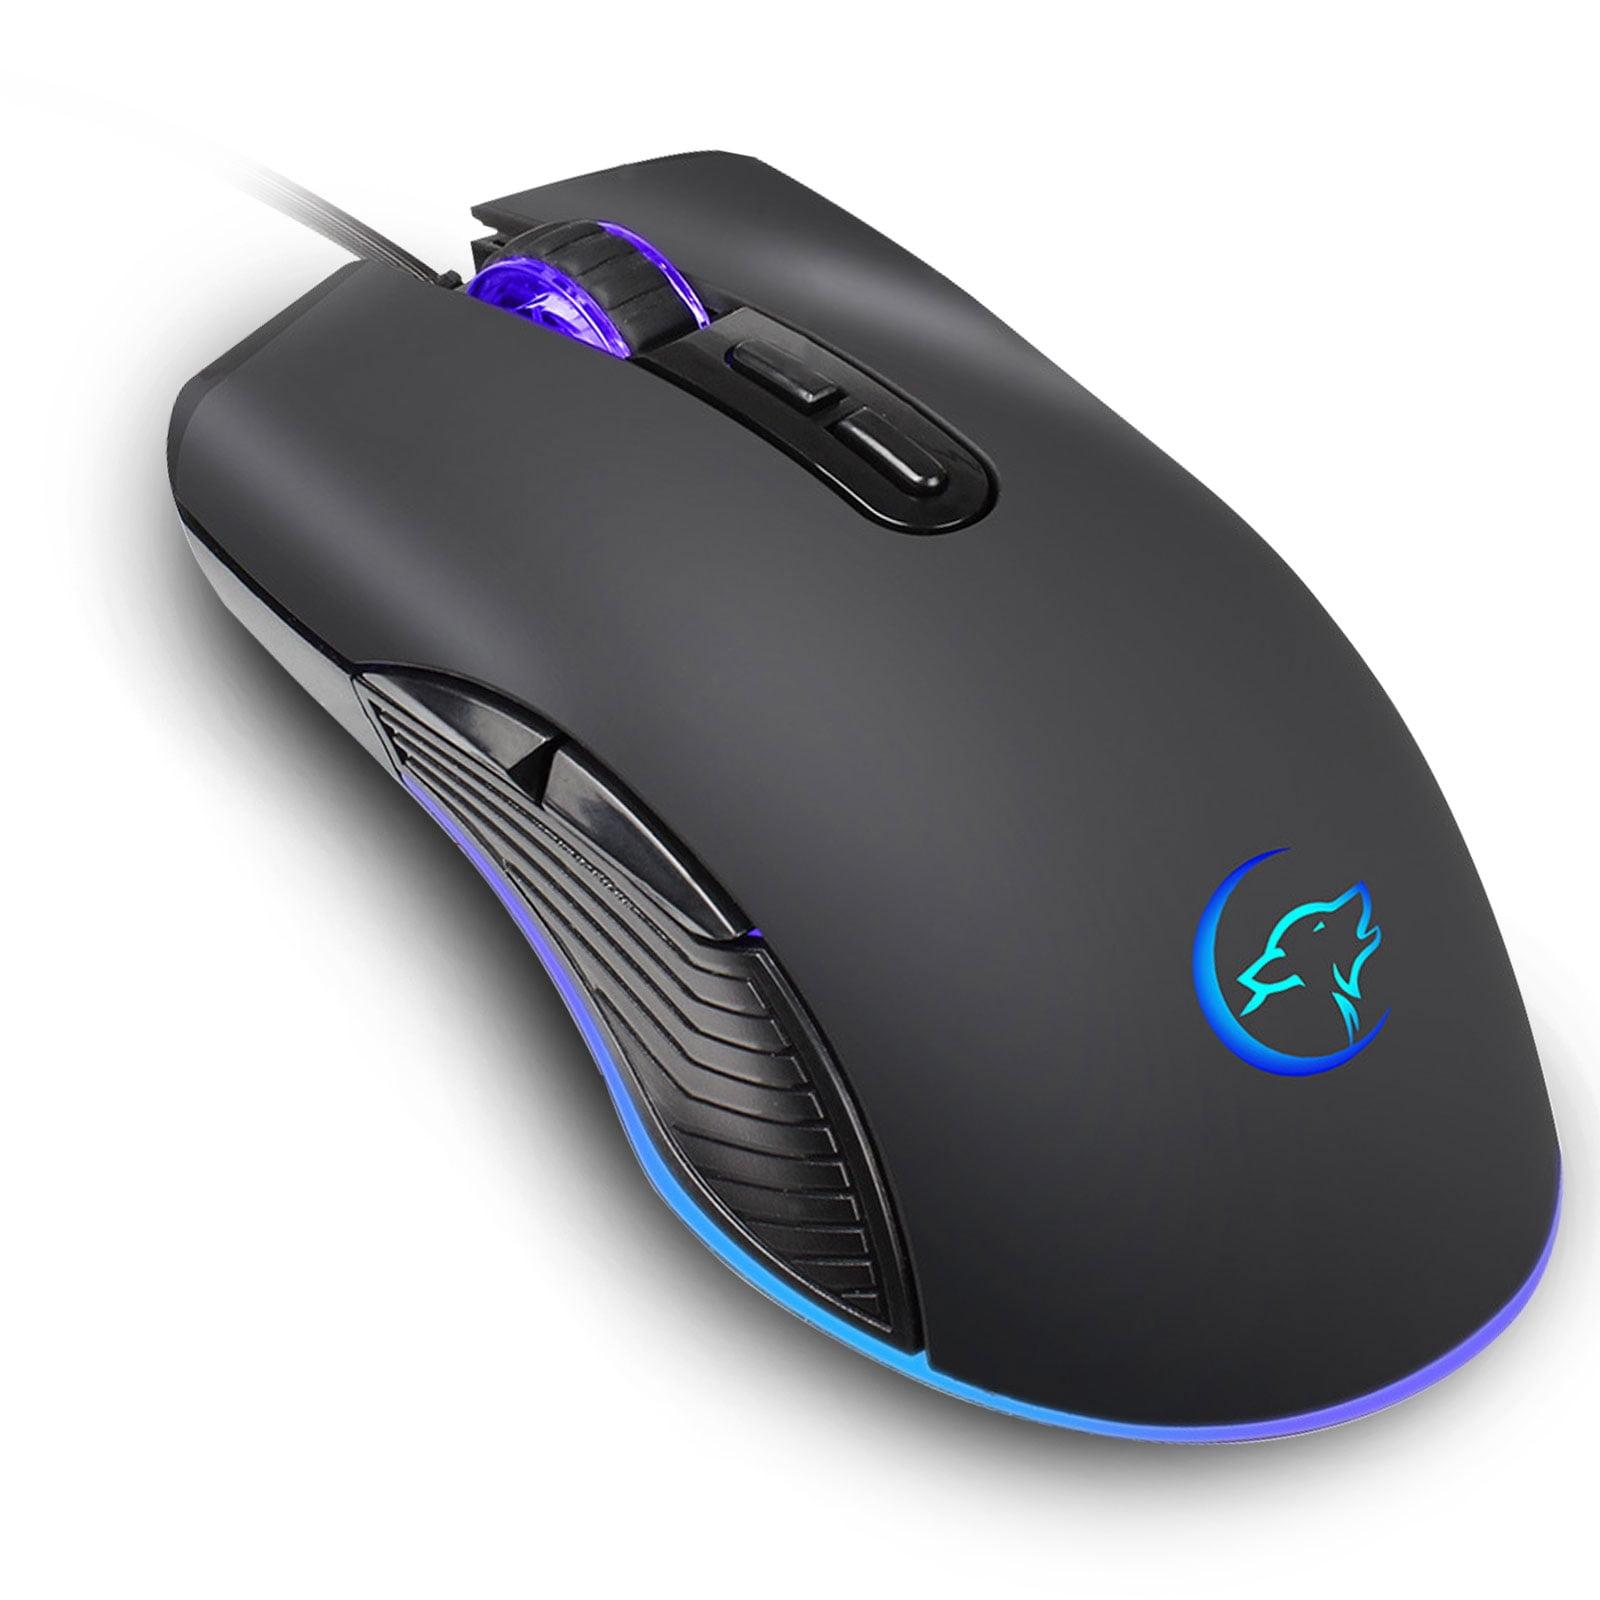computer mouse: (163, 151, 1571, 1456)
